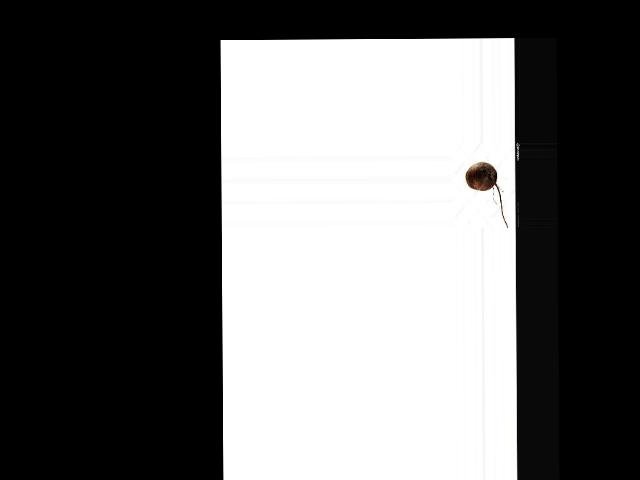beet: (465, 162, 508, 228)
